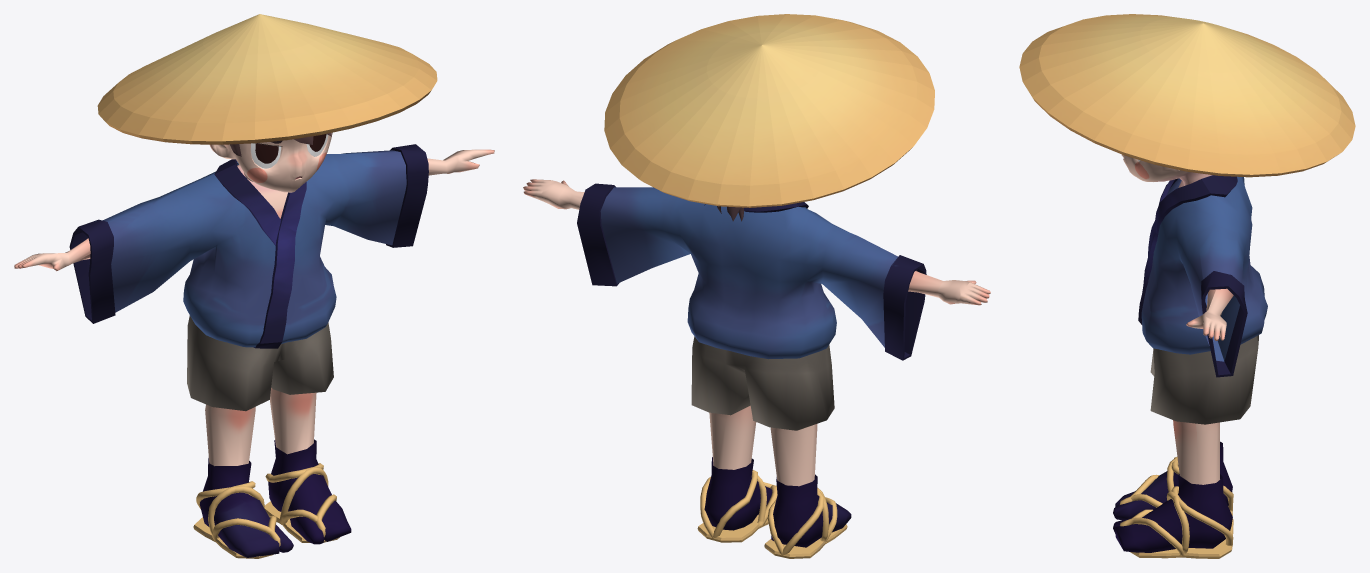
The model's file is Boy.glb.
The picture shows the model from 3 angles, left to right: view 1: azimuth 30°, elevation 25°; view 2: azimuth 150°, elevation 25°; view 3: azimuth 270°, elevation 25°; orthographic projection. The views are drawn at different scales.
Parts seen in each view (by area): view 1: boy.011, warajiRope; view 2: boy.011, warajiRope; view 3: boy.011, warajiRope.
Boxes of the visible parts, left/top/right/bottom form: boy.011: left=14, top=14, right=494, bottom=558; warajiRope: left=196, top=463, right=336, bottom=546; boy.011: left=523, top=14, right=990, bottom=558; warajiRope: left=700, top=470, right=837, bottom=555; boy.011: left=1019, top=14, right=1355, bottom=558; warajiRope: left=1120, top=457, right=1233, bottom=555.
Size of the model in its own units: 4.53 by 4.6 by 2.76.
2 materials, 2 textured.
